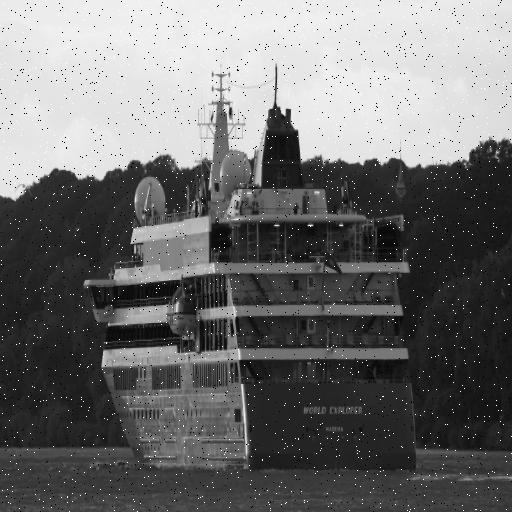cruises: (82, 54, 429, 486)
